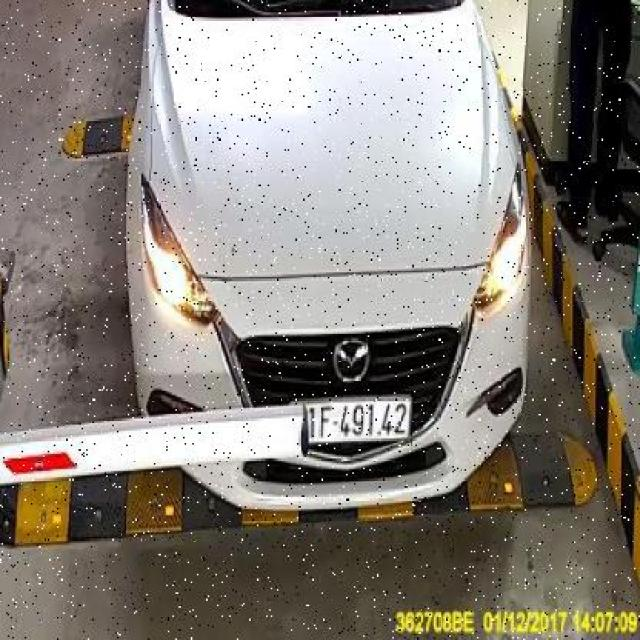number_plate: (292, 392, 412, 446)
